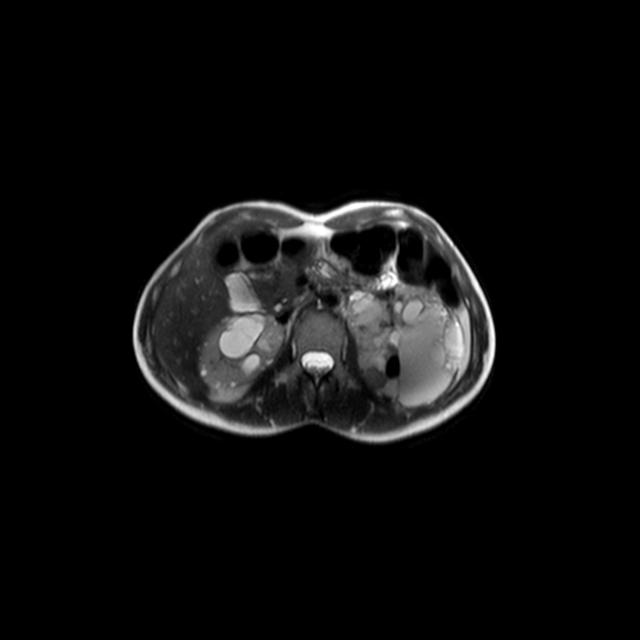sag: (197, 313, 284, 392)
sol: (346, 283, 465, 406)
